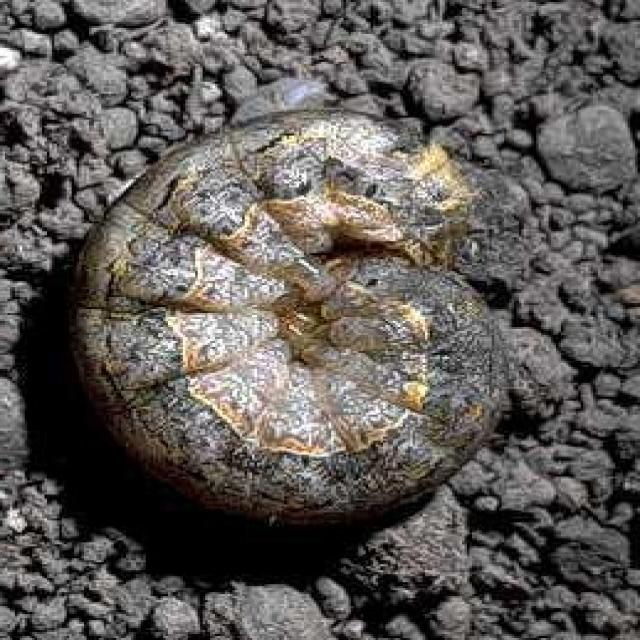black cutworm: (60, 99, 505, 529)
